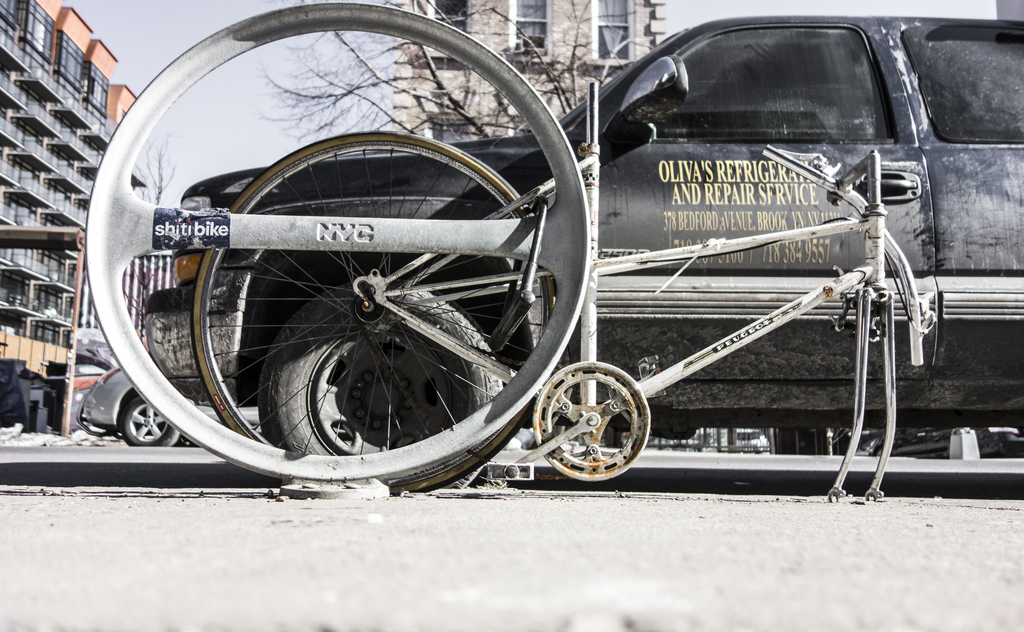Car: (142, 10, 1023, 487), (79, 372, 263, 448), (865, 427, 1023, 458), (737, 427, 768, 455)
